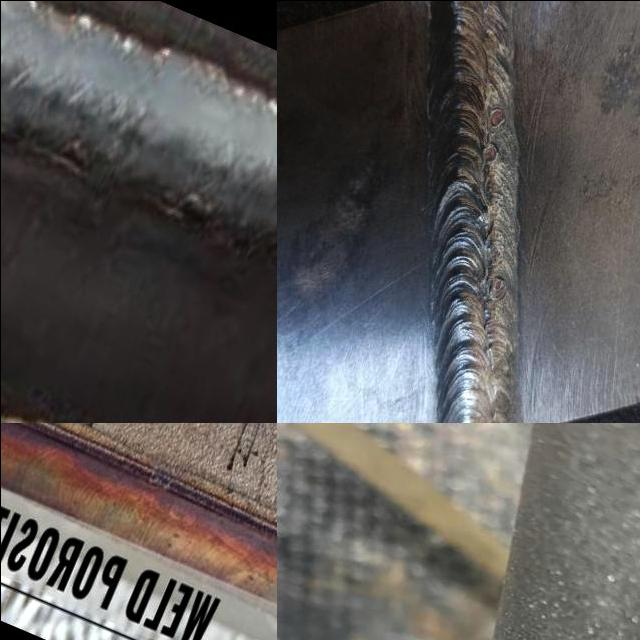defect: (486, 103, 508, 131), (480, 141, 501, 166), (489, 277, 508, 300), (487, 240, 504, 264), (490, 190, 505, 210)
